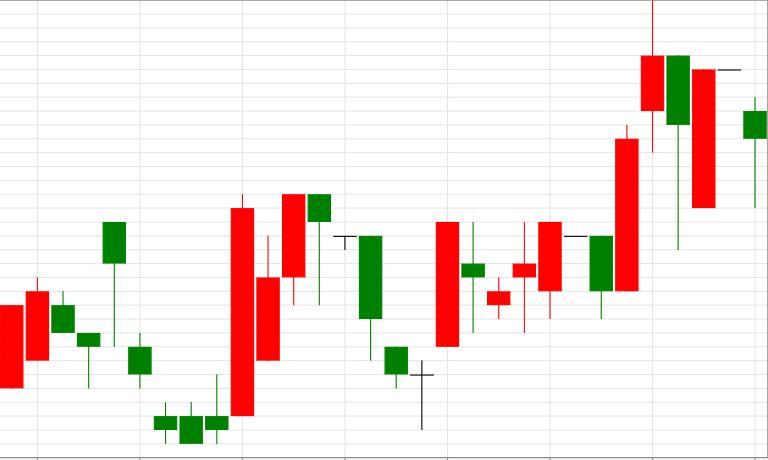morning_star_rise: (308, 193, 458, 430)
